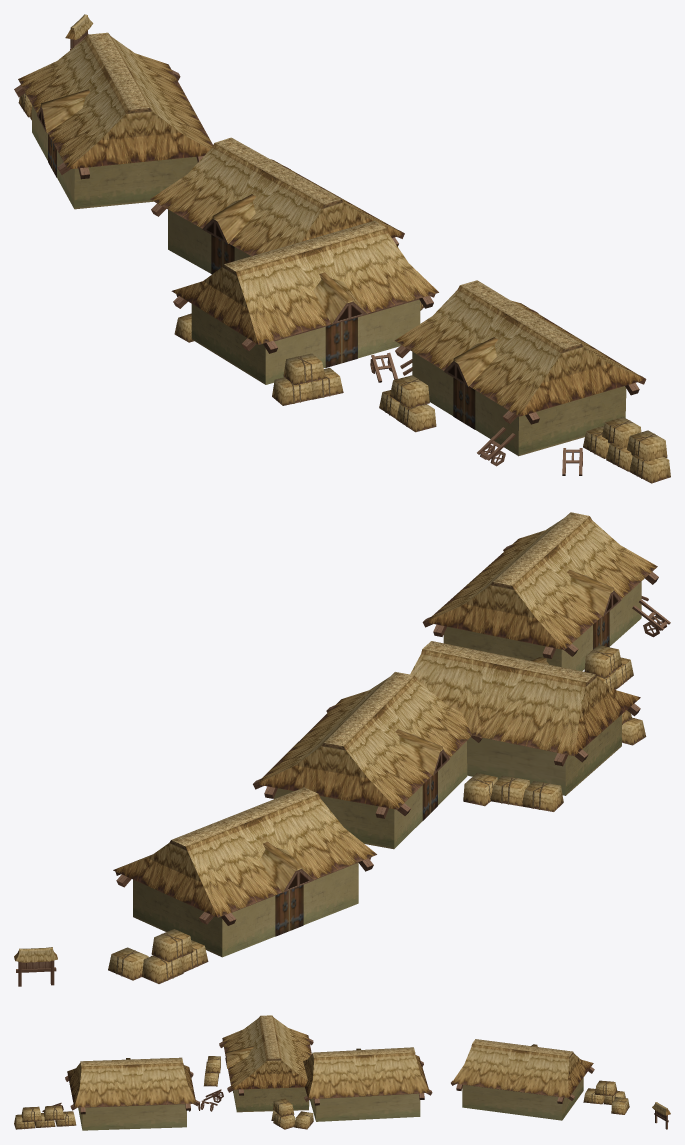
The model's file is Area_07_7.fbx.
3 views of the same model, one above another, from view 1: azimuth 30°, elevation 25°; view 2: azimuth 150°, elevation 25°; view 3: azimuth 270°, elevation 25° (orthographic). The views are drawn at different scales.
Visible parts, largest first — view 1: Area_07_7; view 2: Area_07_7; view 3: Area_07_7.
Part boxes in pixels (box(x1,y1,x2,y2)): Area_07_7: box(14, 14, 670, 483); Area_07_7: box(14, 512, 670, 986); Area_07_7: box(14, 1015, 670, 1130).
Bounding box in the file's own units: 2242 × 774 × 8278.
